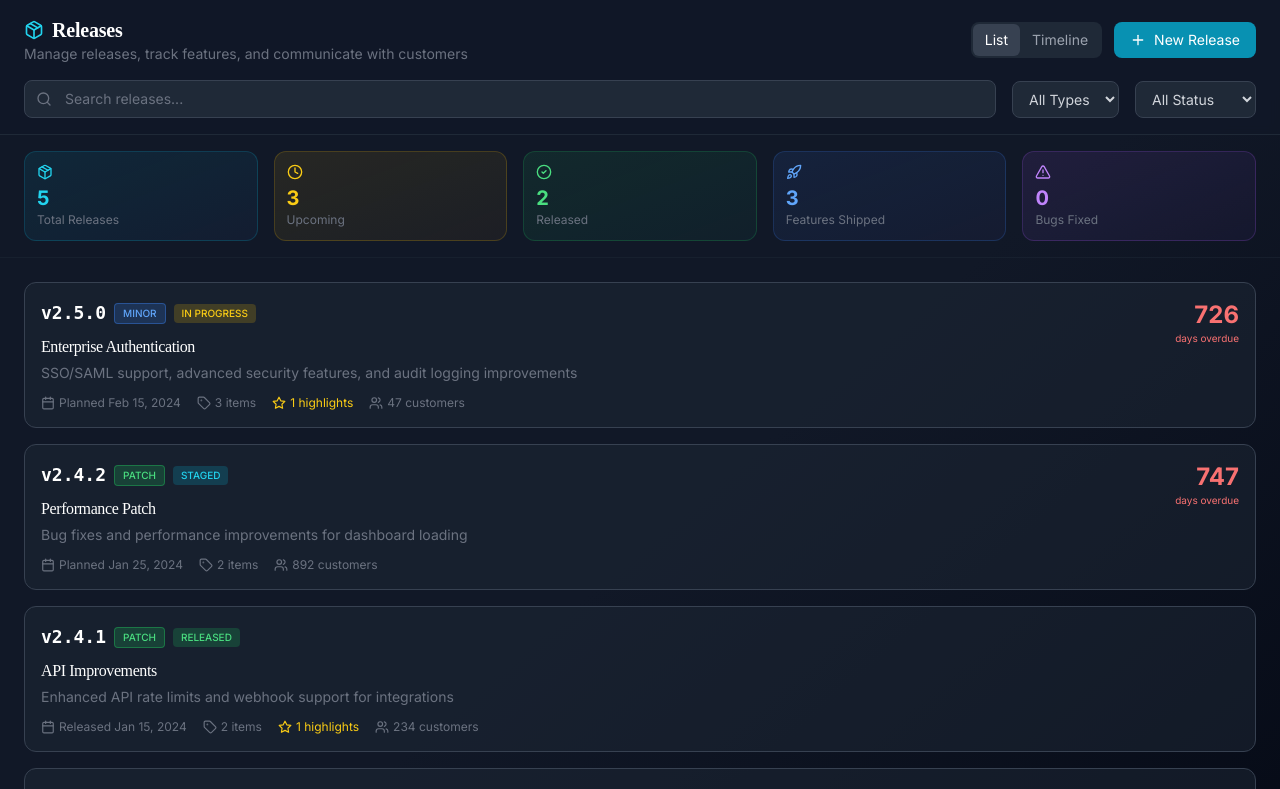
Test: ReleasesView › opens detail panel when clicking a release
# Click on a release
Click the heading "Enterprise Authentication": click(118, 346) [41,338,195,355]
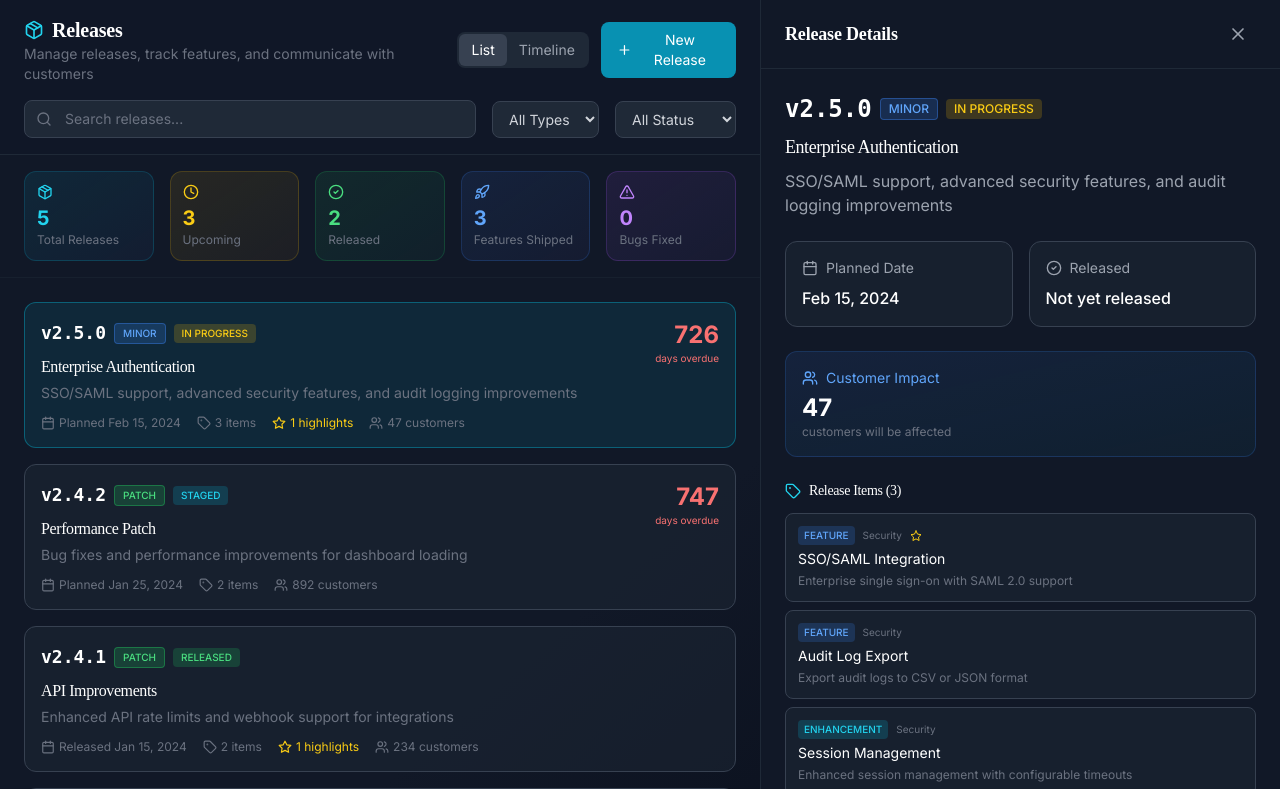
Expected: the heading "Release Details" is shown, [785,20,898,48]
